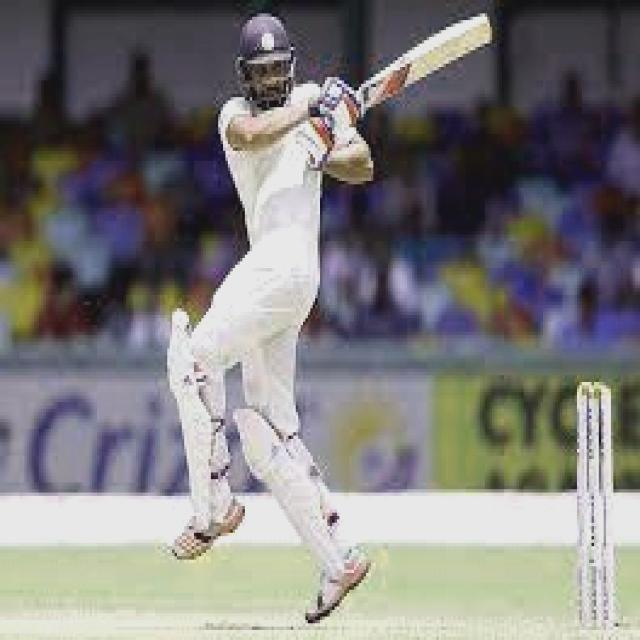toe: (459, 2, 497, 52)
